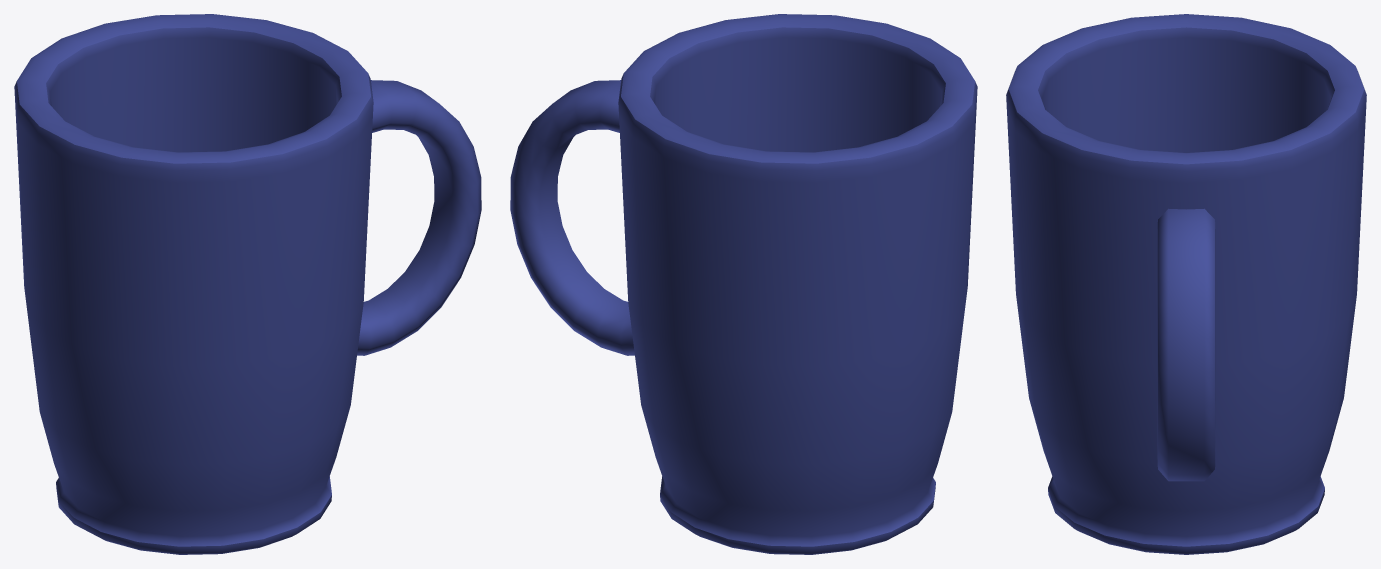
The model's file is Mug2.fbx.
The picture shows the model from 3 angles, left to right: view 1: azimuth 30°, elevation 25°; view 2: azimuth 150°, elevation 25°; view 3: azimuth 270°, elevation 25°; orthographic projection.
Parts seen in each view (by area): view 1: Mug2; view 2: Mug2; view 3: Mug2.
Part boxes in pixels (x1,y1,x2,y2): Mug2: (14, 14, 481, 554); Mug2: (510, 14, 977, 554); Mug2: (1006, 14, 1366, 554).
Bounding box in the file's own units: 22.4 × 20.45 × 16.11.
